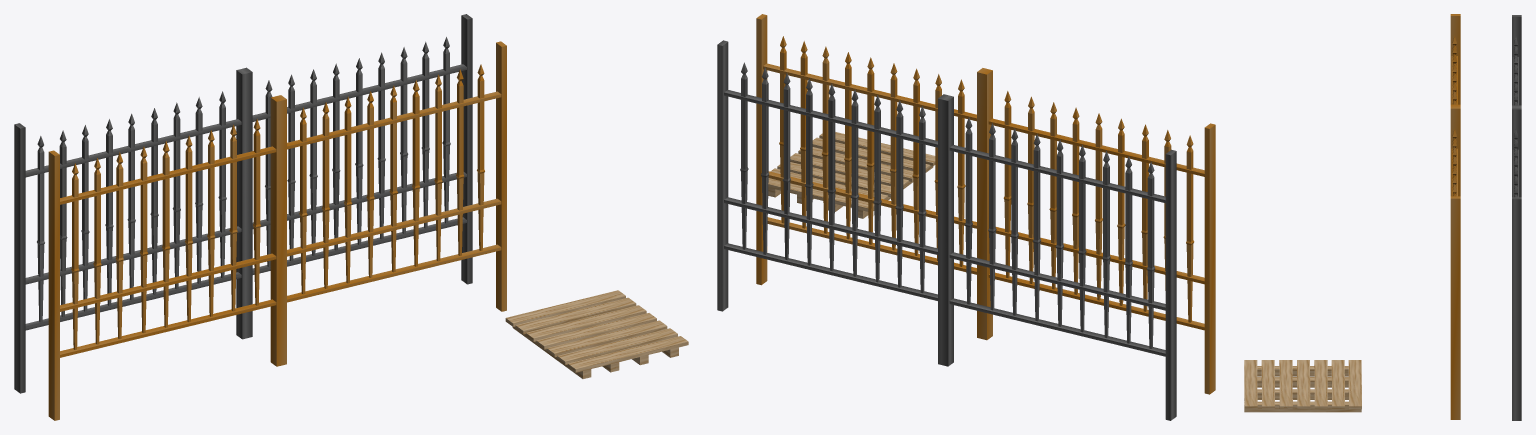
The model's file is grade_mod.fbx.
3 renders of one model, left to right at view 1: azimuth 30°, elevation 25°; view 2: azimuth 150°, elevation 25°; view 3: azimuth 270°, elevation 25°, orthographic. The views are drawn at different scales.
Visible parts, largest first — view 1: Cube.000, Cube.002, Cube.001; view 2: Cube.002, Cube.000, Cube.001; view 3: Cube.001, Cube.000, Cube.002.
Part boxes in pixels (x1,y1,x2,y2): Cube.000: (48,41,506,420); Cube.002: (14,14,472,393); Cube.001: (505,290,688,378); Cube.002: (717,40,1176,420); Cube.000: (756,14,1215,394); Cube.001: (768,132,935,218); Cube.001: (1244,360,1361,412); Cube.000: (1450,14,1460,419); Cube.002: (1512,15,1521,420).
Bounding box in the file's own units: 452 × 224 × 254.
